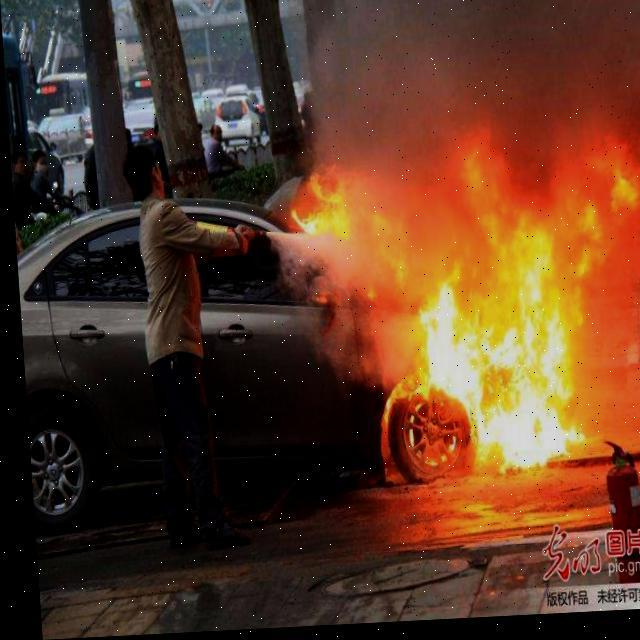Fire: (281, 106, 639, 486)
